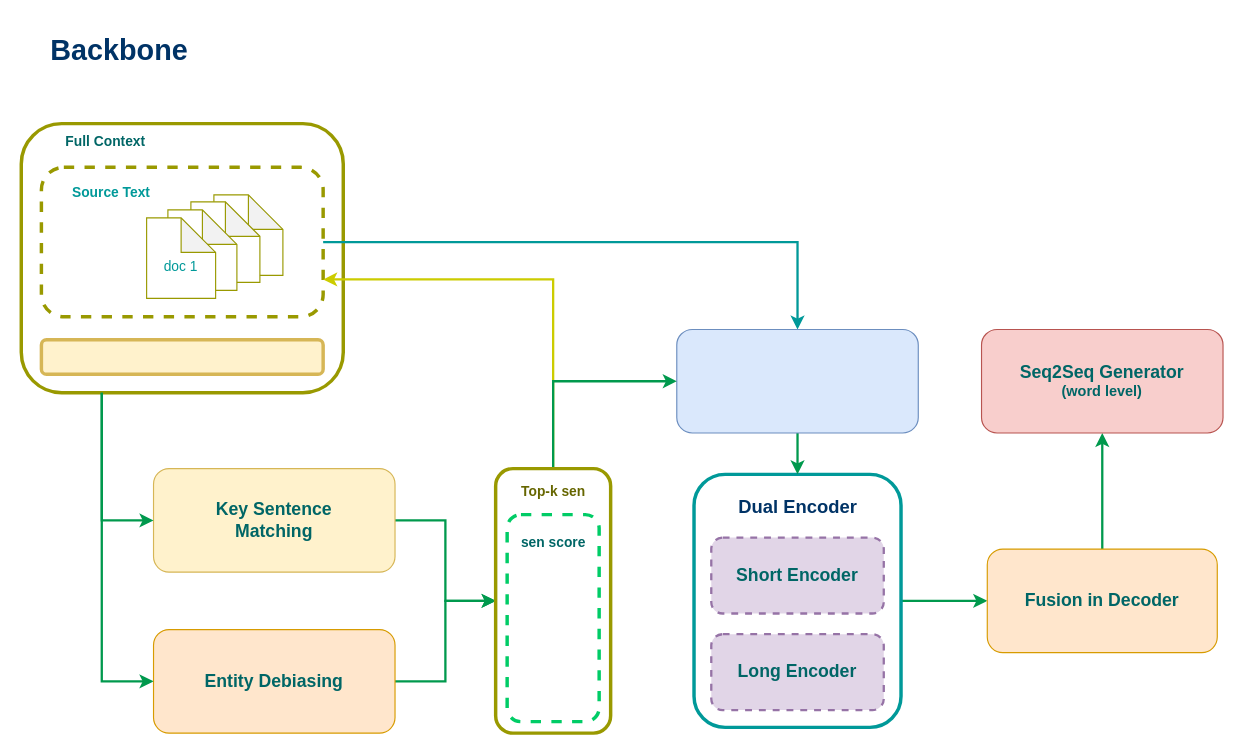
The diagram is 1243 pixels wide and 754 high, and some of its shapes have lost their labels. The box of each missing label's shape, as (x1, y1, x2, y2) in pixels:
Capturing Long-distance dependency: (676, 328, 918, 433)
Question: (39, 338, 324, 375)
sen1...0.98 sen2...0.87 ... ... senk...0.79: (505, 512, 600, 723)
